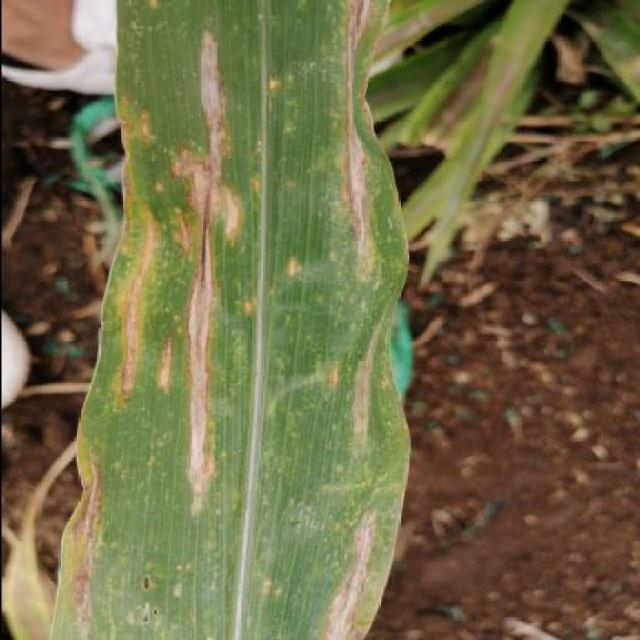Corn_Leaf_Blight: (63, 0, 414, 640)
